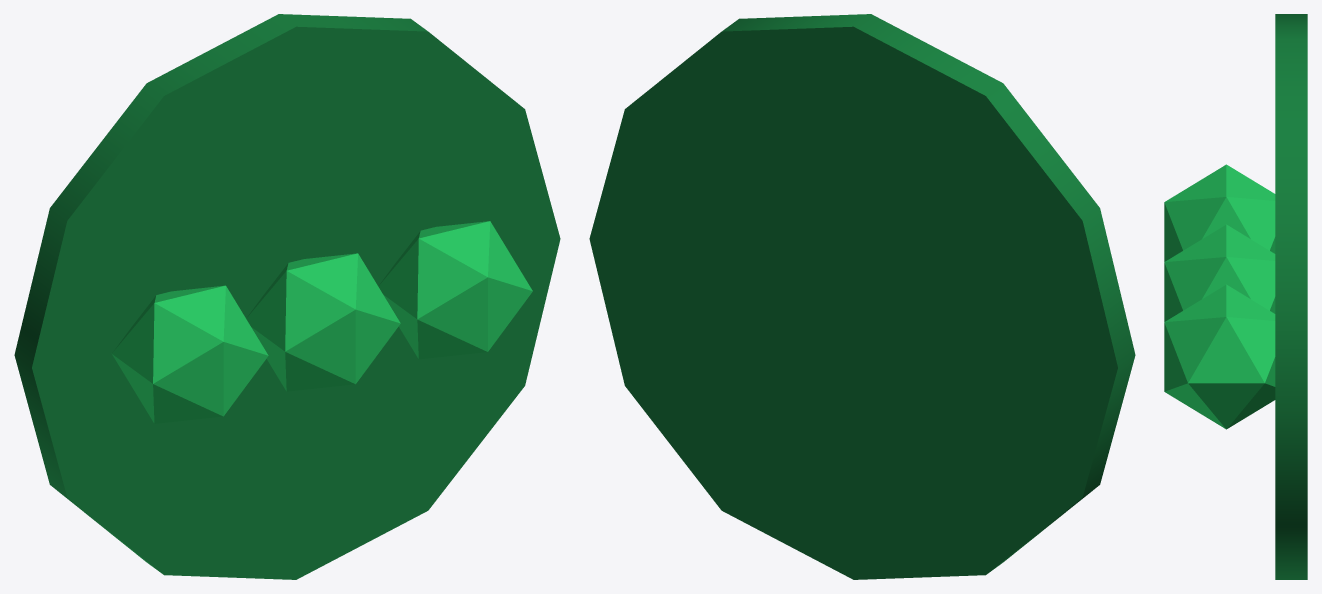
File: vegetation.groundcover.glb
3 views of the same model, side by side, from view 1: azimuth 30°, elevation 25°; view 2: azimuth 150°, elevation 25°; view 3: azimuth 270°, elevation 25° (orthographic). The views are drawn at different scales.
Visible parts, largest first — view 1: vegetation.groundcover; view 2: vegetation.groundcover; view 3: vegetation.groundcover.
Part boxes in pixels (box(x1,y1,x2,y2)): vegetation.groundcover: box(14, 14, 560, 579); vegetation.groundcover: box(589, 14, 1135, 579); vegetation.groundcover: box(1164, 14, 1307, 579).
Bounding box in the file's own units: 1.4 × 1.4 × 0.3531.
